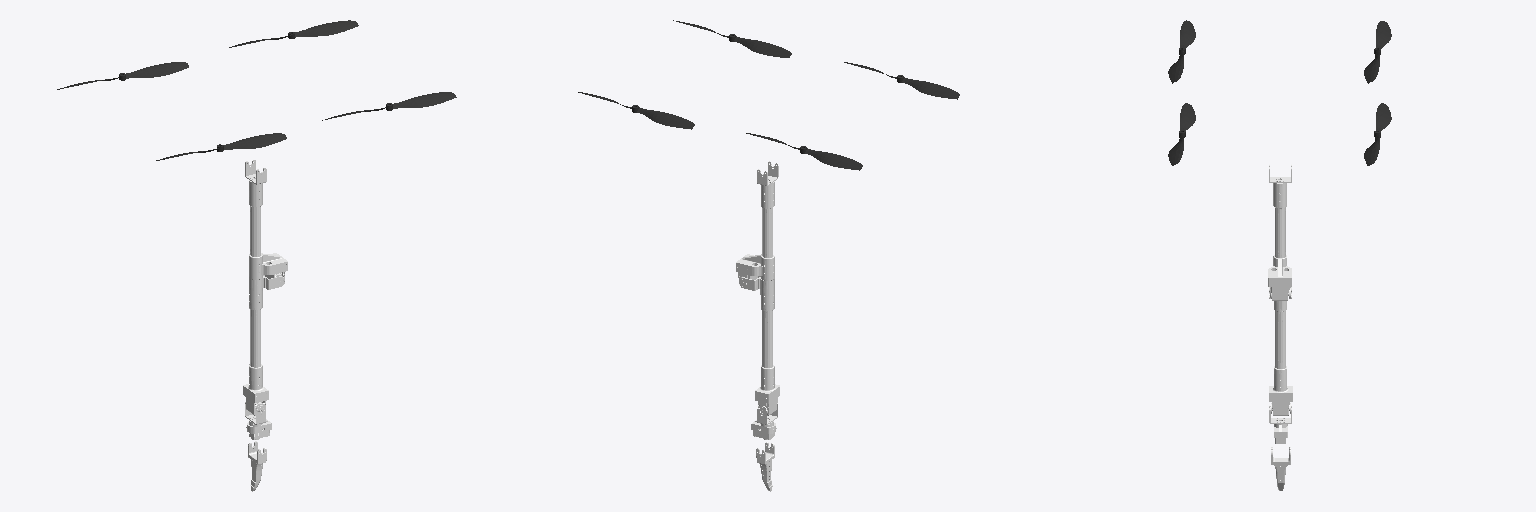
URDF robot description (x500_arm):
<?xml version="1.0" encoding="utf-8"?>
<!-- This URDF was automatically created by SolidWorks to URDF Exporter! Originally created by Stephen Brawner (brawner@gmail.com)
     Commit Version: 1.6.0-4-g7f85cfe  Build Version: 1.6.7995.38578
     For more information, please see http://wiki.ros.org/sw_urdf_exporter -->
<robot
  name="x500_arm">

  <mujoco>
    <compiler meshdir="meshes/" balanceinertia="true" discardvisual="false"/>
  </mujoco>

  <link
    name="base_link">
    <inertial>
      <origin
        xyz="0.012066 0.0004345 -0.036721"
        rpy="0 0 0" />
      <mass
        value="0.7359" />
      <inertia
        ixx="0.012731"
        ixy="8.62E-06"
        ixz="4.872E-05"
        iyy="0.01319"
        iyz="1.09E-06"
        izz="0.016875" />
    </inertial>
    <visual>
      <origin
        xyz="0 0 0"
        rpy="0 0 0" />
      <geometry>
        <mesh
          filename="meshes/base_link.STL" />
      </geometry>
      <material
        name="">
        <color
          rgba="1 1 1 1" />
      </material>
    </visual>
    <collision>
      <origin
        xyz="0 0 0"
        rpy="0 0 0" />
      <geometry>
        <mesh
          filename="meshes/base_link.STL" />
      </geometry>
    </collision>
  </link>
  <link
    name="rotor_1">
    <inertial>
      <origin
        xyz="0 0 0.0062143"
        rpy="0 0 0" />
      <mass
        value="0.012" />
      <inertia
        ixx="1.06E-06"
        ixy="6.08E-06"
        ixz="0"
        iyy="5.699E-05"
        iyz="0"
        izz="5.789E-05" />
    </inertial>
    <visual>
      <origin
        xyz="0 0 0"
        rpy="0 0 0" />
      <geometry>
        <mesh
          filename="meshes/rotor_1.STL" />
      </geometry>
      <material
        name="">
        <color
          rgba="0.25098 0.25098 0.25098 1" />
      </material>
    </visual>
    <collision>
      <origin
        xyz="0 0 0"
        rpy="0 0 0" />
      <geometry>
        <mesh
          filename="meshes/rotor_1.STL" />
      </geometry>
    </collision>
  </link>
  <joint
    name="rotor_joint_1"
    type="continuous">
    <origin
      xyz="0.17688 -0.17688 0.056"
      rpy="0 0 0" />
    <parent
      link="base_link" />
    <child
      link="rotor_1" />
    <axis
      xyz="0 0 1" />
    <limit
      effort="0.217"
      velocity="1161.1" />
  </joint>
  <link
    name="rotor_2">
    <inertial>
      <origin
        xyz="0 0 0.0062143"
        rpy="0 0 0" />
      <mass
        value="0.012" />
      <inertia
        ixx="1.06E-06"
        ixy="6.08E-06"
        ixz="0"
        iyy="5.699E-05"
        iyz="0"
        izz="5.789E-05" />
    </inertial>
    <visual>
      <origin
        xyz="0 0 0"
        rpy="0 0 0" />
      <geometry>
        <mesh
          filename="meshes/rotor_2.STL" />
      </geometry>
      <material
        name="">
        <color
          rgba="0.25098 0.25098 0.25098 1" />
      </material>
    </visual>
    <collision>
      <origin
        xyz="0 0 0"
        rpy="0 0 0" />
      <geometry>
        <mesh
          filename="meshes/rotor_2.STL" />
      </geometry>
    </collision>
  </link>
  <joint
    name="rotor_joint_2"
    type="continuous">
    <origin
      xyz="0.17688 0.17688 0.056"
      rpy="0 0 0" />
    <parent
      link="base_link" />
    <child
      link="rotor_2" />
    <axis
      xyz="0 0 1" />
    <limit
      effort="0.217"
      velocity="1161.1" />
  </joint>
  <link
    name="rotor_3">
    <inertial>
      <origin
        xyz="0 0 0.0062143"
        rpy="0 0 0" />
      <mass
        value="0.012" />
      <inertia
        ixx="1.06E-06"
        ixy="6.08E-06"
        ixz="0"
        iyy="5.699E-05"
        iyz="0"
        izz="5.789E-05" />
    </inertial>
    <visual>
      <origin
        xyz="0 0 0"
        rpy="0 0 0" />
      <geometry>
        <mesh
          filename="meshes/rotor_3.STL" />
      </geometry>
      <material
        name="">
        <color
          rgba="0.25098 0.25098 0.25098 1" />
      </material>
    </visual>
    <collision>
      <origin
        xyz="0 0 0"
        rpy="0 0 0" />
      <geometry>
        <mesh
          filename="meshes/rotor_3.STL" />
      </geometry>
    </collision>
  </link>
  <joint
    name="rotor_joint_3"
    type="continuous">
    <origin
      xyz="-0.17688 0.17688 0.056"
      rpy="0 0 0" />
    <parent
      link="base_link" />
    <child
      link="rotor_3" />
    <axis
      xyz="0 0 1" />
    <limit
      effort="0.217"
      velocity="1161.1" />
  </joint>
  <link
    name="rotor_4">
    <inertial>
      <origin
        xyz="0 0 0.0062143"
        rpy="0 0 0" />
      <mass
        value="0.012" />
      <inertia
        ixx="1.06E-06"
        ixy="6.08E-06"
        ixz="0"
        iyy="5.699E-05"
        iyz="0"
        izz="5.789E-05" />
    </inertial>
    <visual>
      <origin
        xyz="0 0 0"
        rpy="0 0 0" />
      <geometry>
        <mesh
          filename="meshes/rotor_4.STL" />
      </geometry>
      <material
        name="">
        <color
          rgba="0.25098 0.25098 0.25098 1" />
      </material>
    </visual>
    <collision>
      <origin
        xyz="0 0 0"
        rpy="0 0 0" />
      <geometry>
        <mesh
          filename="meshes/rotor_4.STL" />
      </geometry>
    </collision>
  </link>
  <joint
    name="rotor_joint_4"
    type="continuous">
    <origin
      xyz="-0.17688 -0.17688 0.056"
      rpy="0 0 0" />
    <parent
      link="base_link" />
    <child
      link="rotor_4" />
    <axis
      xyz="0 0 1" />
    <limit
      effort="0.217"
      velocity="1161.1" />
  </joint>
  <link
    name="link_1">
    <inertial>
      <origin
        xyz="0.01467677 -0.1545146 -0.00033367"
        rpy="0 0 0" />
      <mass
        value="0.07754703" />
      <inertia
        ixx="0.00038876"
        ixy="6.199E-05"
        ixz="6.3E-07"
        iyy="3.764E-05"
        iyz="-1.71E-06"
        izz="0.00040939" />
    </inertial>
    <visual>
      <origin
        xyz="0 0 0"
        rpy="0 0 0" />
      <geometry>
        <mesh
          filename="meshes/link_1.STL" />
      </geometry>
      <material
        name="">
        <color
          rgba="1 1 1 1" />
      </material>
    </visual>
    <collision>
      <origin
        xyz="0 0 0"
        rpy="0 0 0" />
      <geometry>
        <mesh
          filename="meshes/link_1.STL" />
      </geometry>
    </collision>
  </link>
  <joint
    name="joint_1"
    type="revolute">
    <origin
      xyz="0 0.0005 -0.088625"
      rpy="1.5708 0 0" />
    <parent
      link="base_link" />
    <child
      link="link_1" />
    <axis
      xyz="0 0 1" />
    <limit
      lower="-2.6485"
      upper="2.6485"
      effort="4.9008"
      velocity="8.95" />
  </joint>
  <link
    name="link_2">
    <inertial>
      <origin
        xyz="-0.03898318 -0.13554568 -0.00035286"
        rpy="0 0 0" />
      <mass
        value="0.06972203" />
      <inertia
        ixx="0.00056083"
        ixy="-1.332E-05"
        ixz="-3E-08"
        iyy="1.374E-05"
        iyz="-2.54E-06"
        izz="0.00055982" />
    </inertial>
    <visual>
      <origin
        xyz="0 0 0"
        rpy="0 0 0" />
      <geometry>
        <mesh
          filename="meshes/link_2.STL" />
      </geometry>
      <material
        name="">
        <color
          rgba="1 1 1 1" />
      </material>
    </visual>
    <collision>
      <origin
        xyz="0 0 0"
        rpy="0 0 0" />
      <geometry>
        <mesh
          filename="meshes/link_2.STL" />
      </geometry>
    </collision>
  </link>
  <joint
    name="joint_2"
    type="revolute">
    <origin
      xyz="0.04048 -0.2314 -0.0005"
      rpy="0 0 0" />
    <parent
      link="link_1" />
    <child
      link="link_2" />
    <axis
      xyz="0 0 1" />
    <limit
      lower="0"
      upper="3.4907"
      effort="3.4305"
      velocity="4.72" />
  </joint>
  <link
    name="link_3">
    <inertial>
      <origin
        xyz="0.00536593 -0.04555542 -6.82E-06"
        rpy="0 0 0" />
      <mass
        value="0.04826195" />
      <inertia
        ixx="1.069E-05"
        ixy="7.2E-07"
        ixz="0"
        iyy="8.38E-06"
        iyz="0"
        izz="1.31E-05" />
    </inertial>
    <visual>
      <origin
        xyz="0 0 0"
        rpy="0 0 0" />
      <geometry>
        <mesh
          filename="meshes/link_3.STL" />
      </geometry>
      <material
        name="">
        <color
          rgba="1 1 1 1" />
      </material>
    </visual>
    <collision>
      <origin
        xyz="0 0 0"
        rpy="0 0 0" />
      <geometry>
        <mesh
          filename="meshes/link_3.STL" />
      </geometry>
    </collision>
  </link>
  <joint
    name="joint_3"
    type="revolute">
    <origin
      xyz="-0.0404 -0.24861 -0.0005"
      rpy="0 0 0" />
    <parent
      link="link_2" />
    <child
      link="link_3" />
    <axis
      xyz="0 0 1" />
    <limit
      lower="-2.6485"
      upper="2.6485"
      effort="3.4305"
      velocity="4.72" />
  </joint>
  <link
    name="link_4">
    <inertial>
      <origin
        xyz="-0.00072181 0.01293507 0.02888259"
        rpy="0 0 0" />
      <mass
        value="0.02233811" />
      <inertia
        ixx="1.445E-05"
        ixy="-1.7E-07"
        ixz="-1.1E-07"
        iyy="1.164E-05"
        iyz="-1.99E-06"
        izz="6.34E-06" />
    </inertial>
    <visual>
      <origin
        xyz="0 0 0"
        rpy="0 0 0" />
      <geometry>
        <mesh
          filename="meshes/link_4.STL" />
      </geometry>
      <material
        name="">
        <color
          rgba="1 1 1 1" />
      </material>
    </visual>
    <collision>
      <origin
        xyz="0 0 0"
        rpy="0 0 0" />
      <geometry>
        <mesh
          filename="meshes/link_4.STL" />
      </geometry>
    </collision>
  </link>
  <joint
    name="joint_4"
    type="revolute">
    <origin
      xyz="0 -0.0629 0"
      rpy="1.5708 -1.5708 0" />
    <parent
      link="link_3" />
    <child
      link="link_4" />
    <axis
      xyz="0 0 1" />
    <limit
      lower="-3.1416"
      upper="3.1416"
      effort="1.3918"
      velocity="10.47" />
  </joint>
  <link
    name="link_5">
    <inertial>
      <origin
        xyz="-0.0015718 -0.03228008 0.00038534"
        rpy="0 0 0" />
      <mass
        value="0.00926" />
      <inertia
        ixx="4.4E-06"
        ixy="-2.6E-07"
        ixz="0"
        iyy="9.8E-07"
        iyz="-1E-07"
        izz="3.87E-06" />
    </inertial>
    <visual>
      <origin
        xyz="0 0 0"
        rpy="0 0 0" />
      <geometry>
        <mesh
          filename="meshes/link_5.STL" />
      </geometry>
      <material
        name="">
        <color
          rgba="1 1 1 1" />
      </material>
    </visual>
    <collision>
      <origin
        xyz="0 0 0"
        rpy="0 0 0" />
      <geometry>
        <mesh
          filename="meshes/link_5.STL" />
      </geometry>
    </collision>
  </link>
  <joint
    name="joint_5"
    type="revolute">
    <origin
      xyz="0 -0.0044 0.02243"
      rpy="-1.5708 0 -1.5708" />
    <parent
      link="link_4" />
    <child
      link="link_5" />
    <axis
      xyz="0 0 1" />
    <limit
      lower="0"
      upper="1.7628"
      effort="1.3918"
      velocity="10.47" />
  </joint>
</robot>

--- Render facts (derived) ---
Views: 3 orthographic renders of the robot side by side, from view 1: azimuth 30°, elevation 25°; view 2: azimuth 150°, elevation 25°; view 3: azimuth 270°, elevation 25°.
Robot: x500_arm — 10 links, 9 joints (5 revolute, 4 continuous); root link base_link; default pose: all joints at 0.
Links seen in each view (by area): view 1: link_1, link_2, rotor_1, rotor_2, rotor_3, rotor_4, link_3, link_5; view 2: link_1, link_2, rotor_3, rotor_1, rotor_2, rotor_4, link_3, link_5; view 3: link_1, link_2, rotor_1, rotor_3, rotor_4, rotor_2.
Link boxes in pixels (bbox=[...]): link_1: bbox=[245, 160, 287, 285]; link_2: bbox=[243, 275, 282, 415]; rotor_1: bbox=[322, 92, 456, 120]; rotor_2: bbox=[229, 20, 358, 47]; rotor_3: bbox=[57, 62, 188, 89]; rotor_4: bbox=[156, 133, 286, 160]; link_3: bbox=[245, 402, 271, 439]; link_5: bbox=[248, 441, 266, 491]; link_1: bbox=[736, 161, 778, 285]; link_2: bbox=[741, 276, 779, 415]; rotor_3: bbox=[746, 133, 862, 170]; rotor_1: bbox=[673, 20, 791, 57]; rotor_2: bbox=[578, 92, 694, 129]; rotor_4: bbox=[844, 62, 959, 99]; link_3: bbox=[751, 403, 777, 439]; link_5: bbox=[756, 442, 774, 491]; link_1: bbox=[1268, 164, 1291, 300]; link_2: bbox=[1269, 287, 1292, 415]; rotor_1: bbox=[1168, 103, 1195, 165]; rotor_3: bbox=[1364, 21, 1391, 83]; rotor_4: bbox=[1168, 20, 1195, 83]; rotor_2: bbox=[1364, 103, 1391, 165].
Size in the robot's own frame: 0.6138 by 0.4036 by 0.8025 metres.
Meshes: 10 distinct files referenced, 8 mesh visuals loaded (8 binary STL); not drawn: 2 (reference not matched to a file when rendering).
